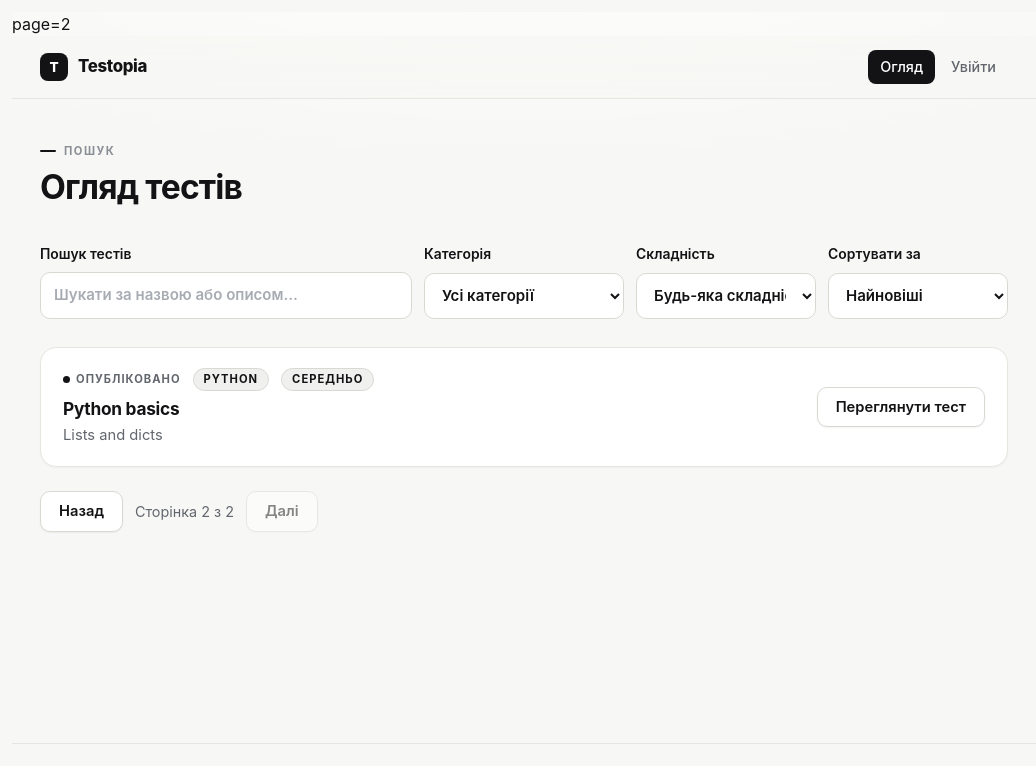
Test: browse pagination and sorting › reads the page from the URL and navigates with prev/next
Check: the heading "Python basics" is shown, box [63,398,179,419]
Check: the heading "C++ basics" is not shown
Click the button "Назад".
click(81, 512)  # box [40,492,123,532]
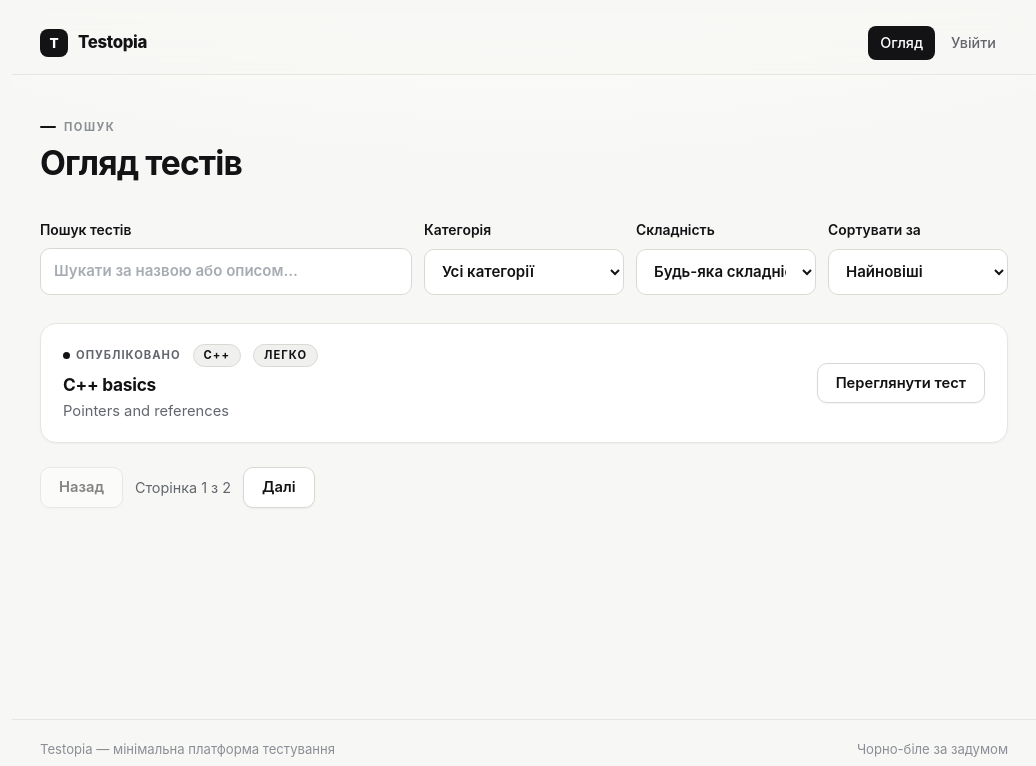
Check: the heading "C++ basics" is shown, box [63,374,156,395]
Check: the text "Сторінка 1 з 2" is shown, box [135,477,231,498]
Click the button "Далі".
click(279, 488)  # box [243,468,315,508]
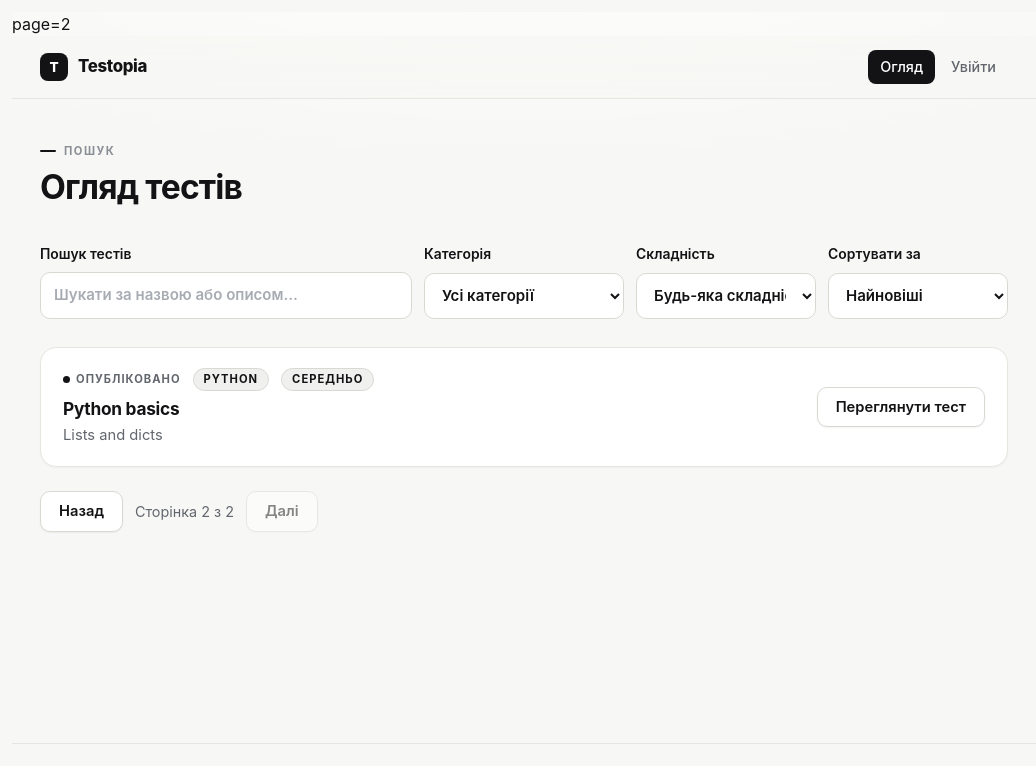
Check: the heading "Python basics" is shown, box [63,398,179,419]
Check: the text with test id "search-probe" reads "page=2", box [12,14,70,34]
